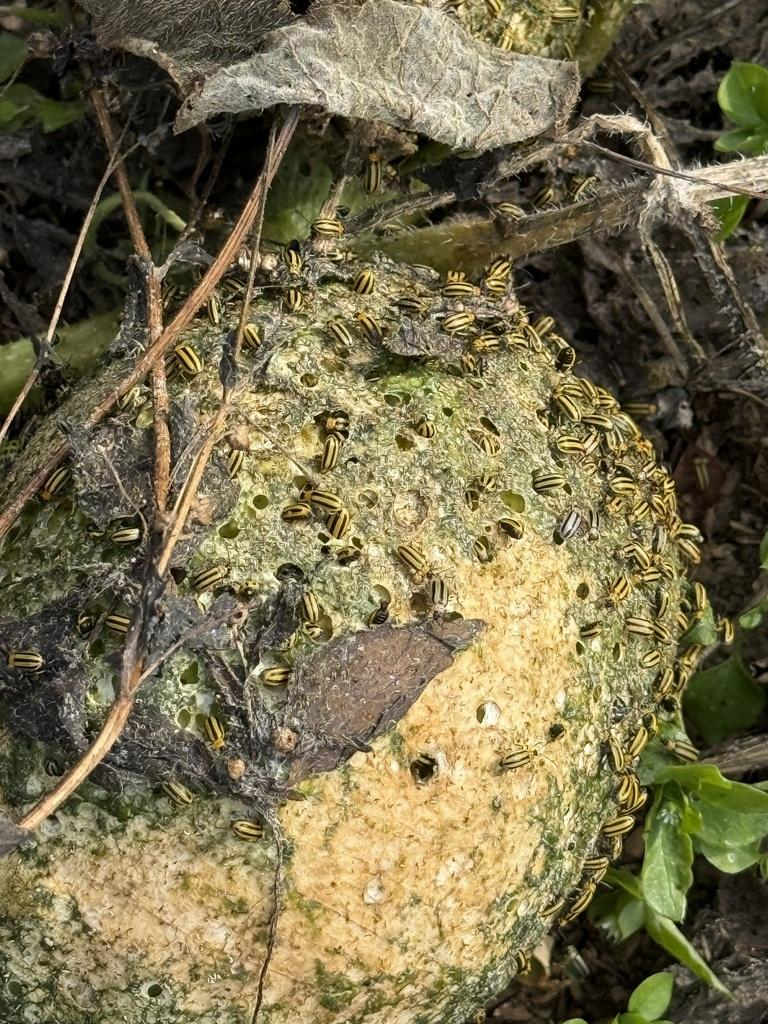potato_beetle: (479, 722, 562, 788), (293, 470, 353, 527), (389, 529, 441, 583), (317, 310, 367, 359), (549, 493, 587, 542)
